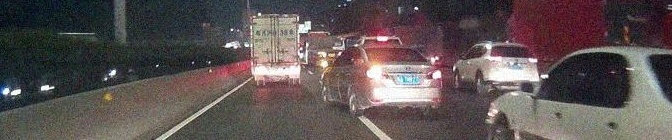L_light: (366, 66, 388, 78), (254, 67, 266, 74), (487, 58, 502, 63)
R_light: (426, 69, 441, 79), (286, 66, 297, 73), (527, 58, 538, 64)
T_light: (268, 15, 280, 18), (388, 48, 398, 51), (504, 45, 516, 47)
night-left: (360, 44, 442, 115)
night-no: (250, 14, 299, 85), (485, 41, 540, 96)
